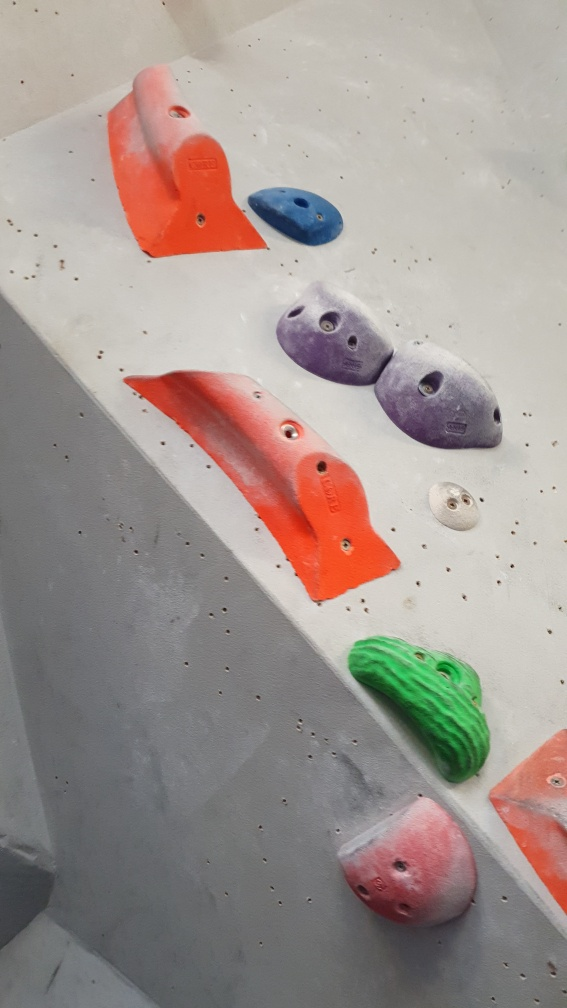Jug: (353, 628, 497, 782), (377, 331, 511, 454), (271, 276, 395, 389)
Pinch: (122, 363, 404, 603), (103, 67, 273, 264)
Sloper: (337, 795, 482, 934)
